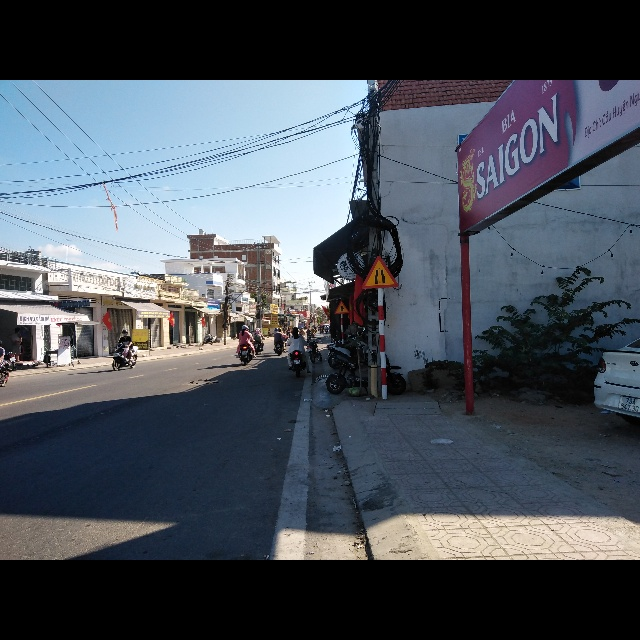Đường bị hẹp cả hai bên: (360, 257, 400, 290)
